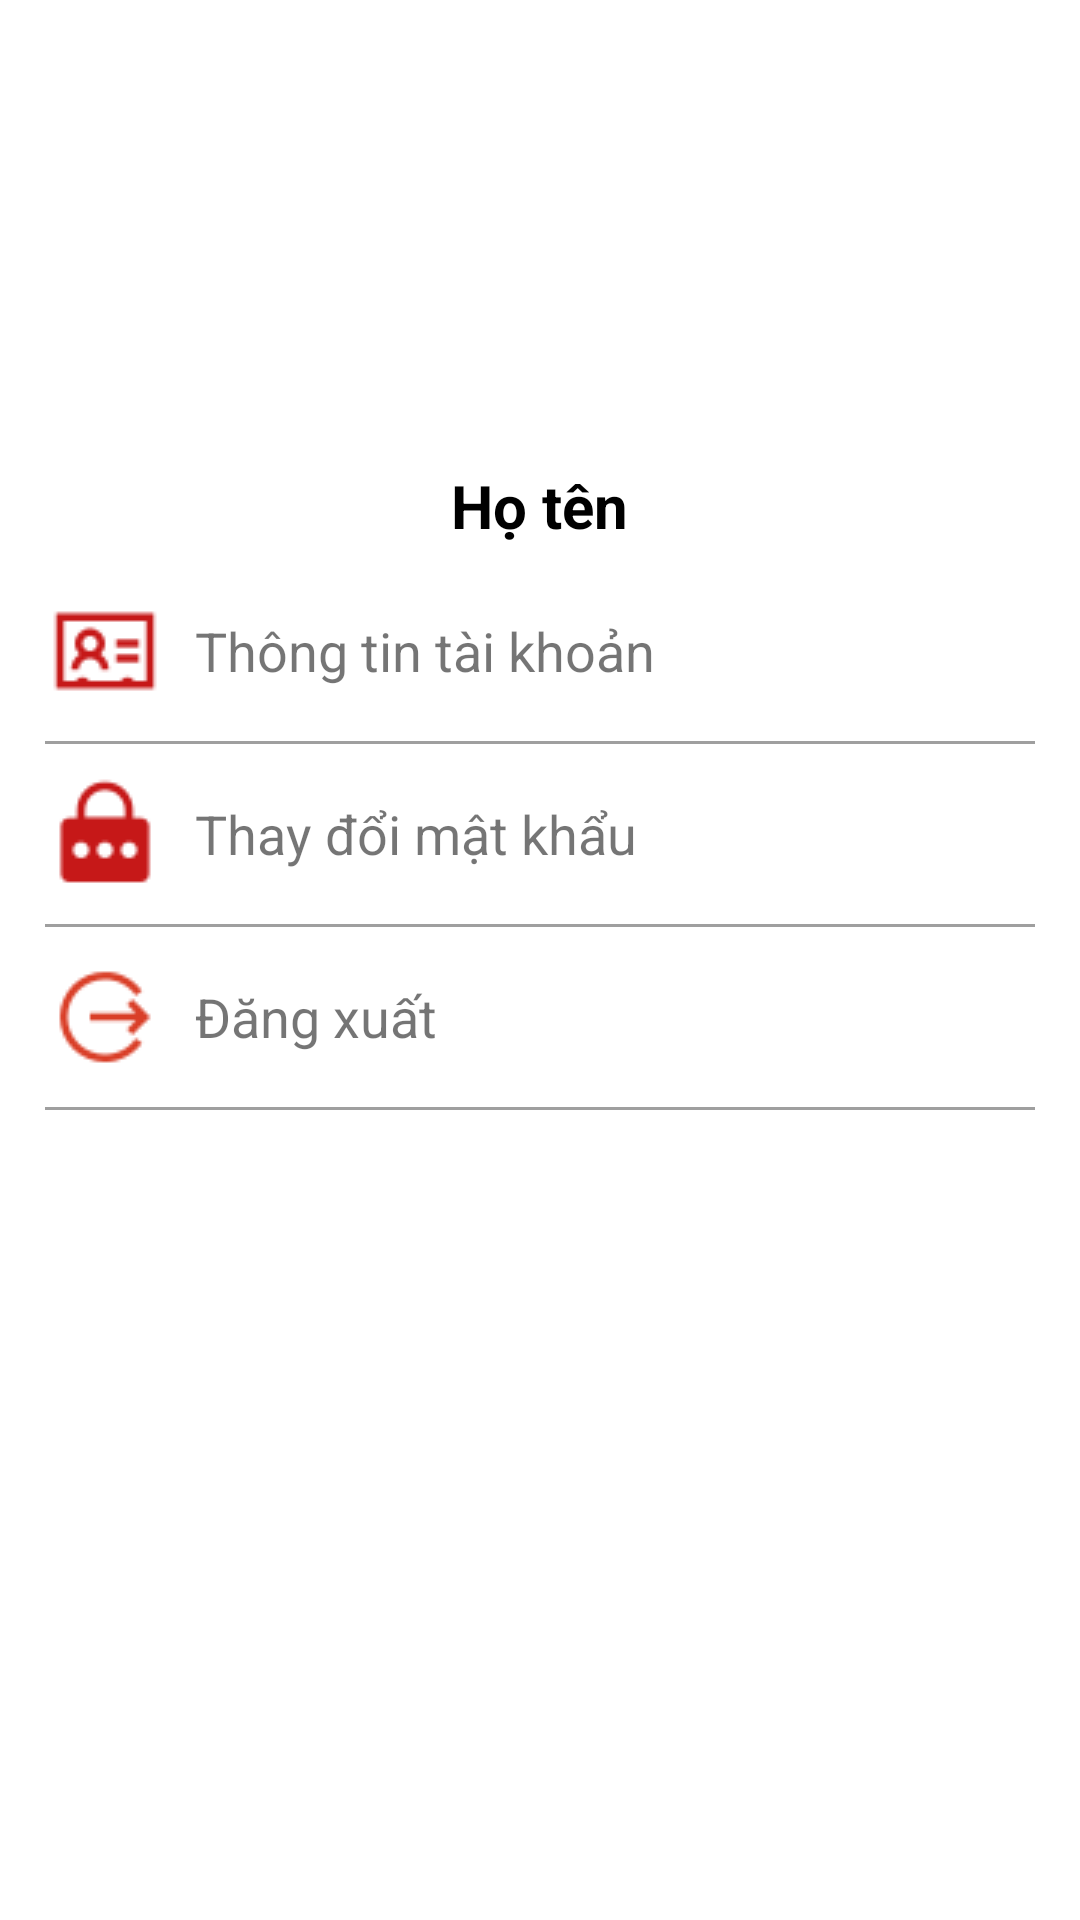

Screen size 1080*1920. Icon name, then its box in pixels as [x1,y1,x2,y2]:
contact details: [54,611,156,691]
password: [59,780,151,883]
sign out: [59,971,151,1063]
